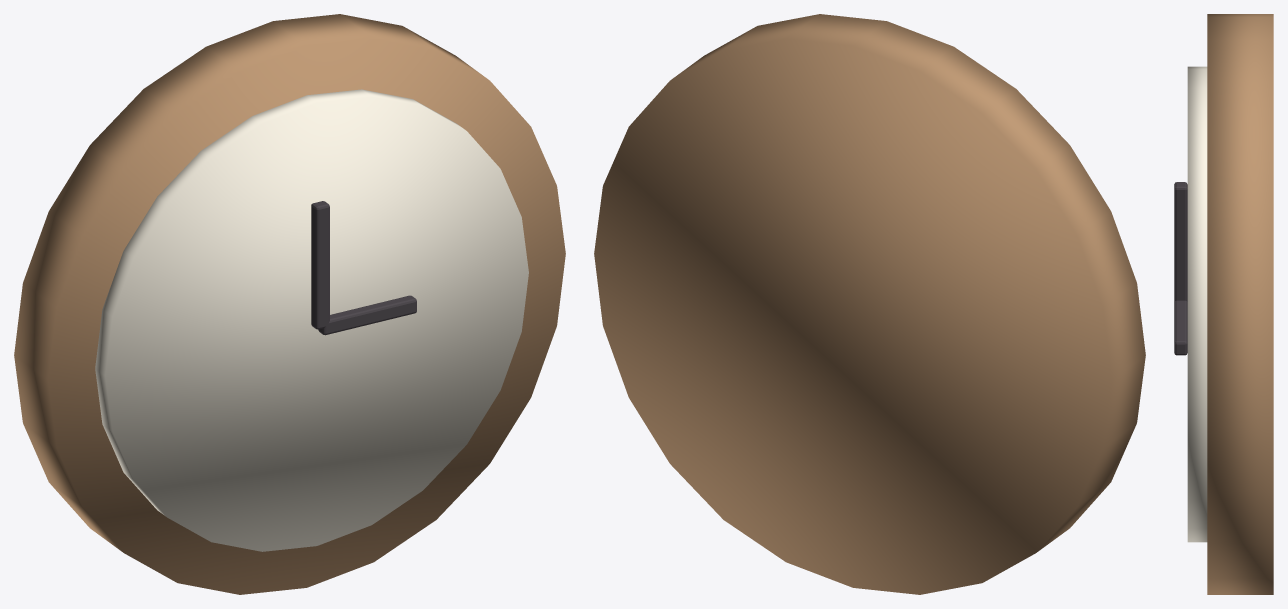
The model's file is WallClock.fbx.
3 renders of one model, left to right at view 1: azimuth 30°, elevation 25°; view 2: azimuth 150°, elevation 25°; view 3: azimuth 270°, elevation 25°, orthographic. The views are drawn at different scales.
Visible parts, largest first — view 1: WallClock; view 2: WallClock; view 3: WallClock.
Boxes of the visible parts, x1,y1,x2,y2 form: WallClock: (14, 14, 565, 594); WallClock: (594, 14, 1145, 594); WallClock: (1174, 14, 1273, 594).
Size of the model in its own units: 44 by 44 by 7.5.
